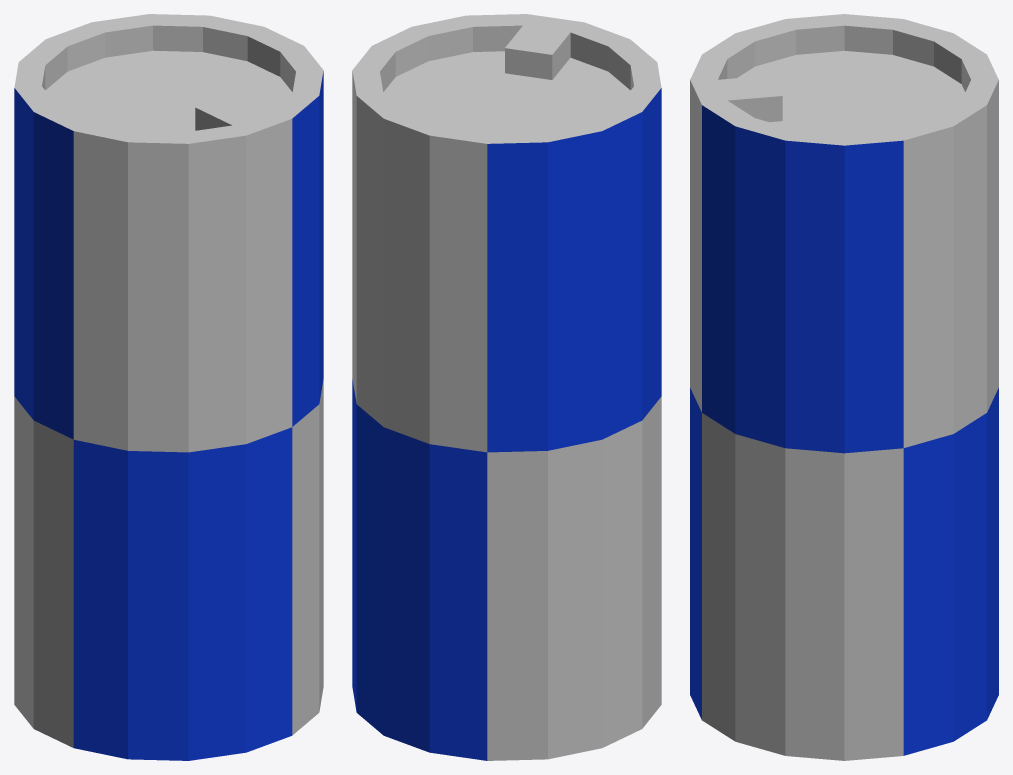
Rendered from red_bull.fbx.
3 views of the same model, side by side, from view 1: azimuth 30°, elevation 25°; view 2: azimuth 150°, elevation 25°; view 3: azimuth 270°, elevation 25° (orthographic).
Parts seen in each view (by area): view 1: Cylinder; view 2: Cylinder; view 3: Cylinder.
Boxes of the visible parts, left/top/right/bottom form: Cylinder: left=14, top=14, right=323, bottom=760; Cylinder: left=352, top=14, right=661, bottom=760; Cylinder: left=690, top=14, right=998, bottom=760.
Bounding box in the file's own units: 269 × 586 × 267.
